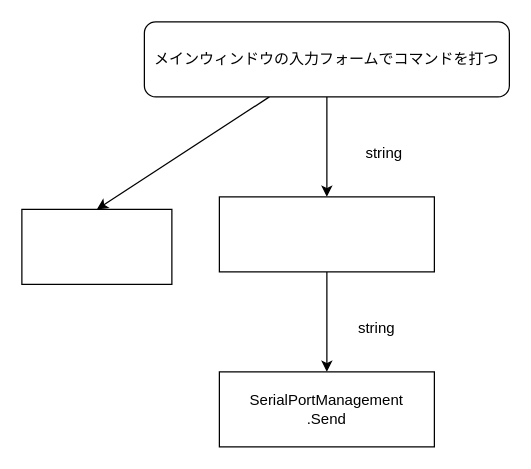
This 531x469 diagram has some shape labels left out. Each missing label, with the centre of its shape:
"CommandFormatter" goes at point 326,234.
"ローカルエコー" goes at point 96,246.
